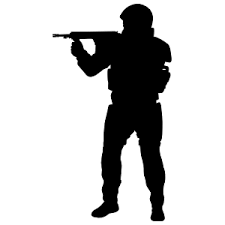gun: (49, 28, 136, 62)
